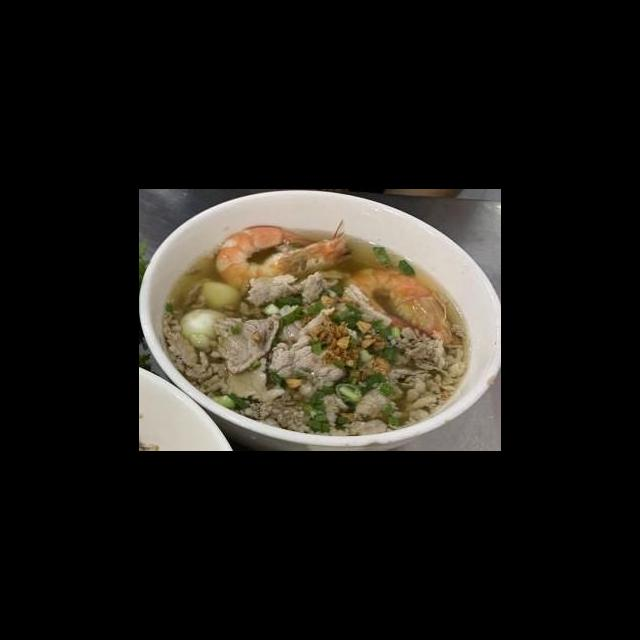thit bam: (319, 325, 471, 440), (235, 380, 354, 441), (156, 305, 231, 400)
thit heo: (264, 300, 361, 393), (208, 310, 283, 377), (326, 280, 394, 339), (239, 271, 341, 308)
tom: (212, 216, 354, 294), (343, 265, 456, 349)
trung: (179, 306, 233, 354), (193, 277, 243, 315)
